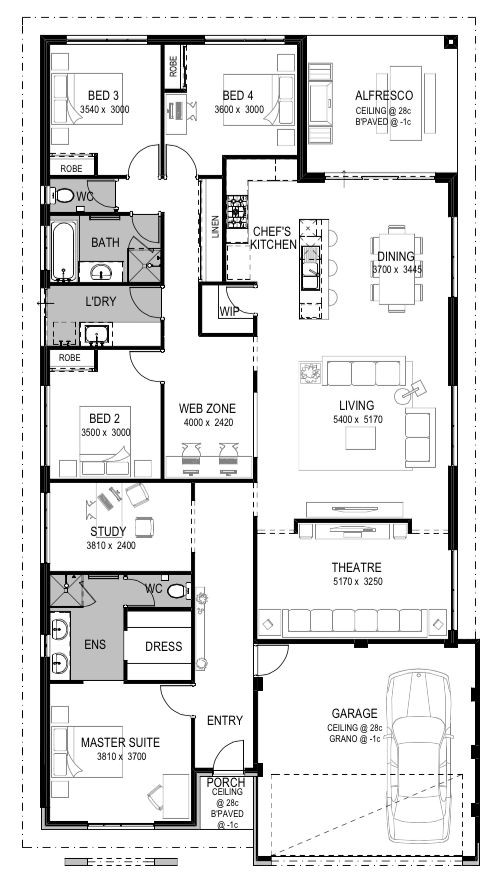door: (152, 686, 202, 721), (211, 730, 248, 775), (164, 142, 198, 186), (131, 349, 171, 386), (256, 646, 294, 683), (122, 571, 154, 613), (127, 142, 157, 184), (123, 288, 165, 317), (88, 180, 121, 214), (131, 211, 165, 242)
room: (229, 179, 454, 490), (253, 633, 475, 860), (30, 573, 195, 827), (42, 348, 252, 494), (37, 175, 169, 356), (156, 38, 307, 173), (253, 533, 445, 638), (42, 33, 164, 190), (33, 479, 198, 568)
wall: (250, 631, 465, 652), (46, 472, 260, 487), (35, 30, 56, 179), (294, 31, 311, 184), (472, 641, 485, 837), (40, 663, 56, 815), (249, 519, 265, 648), (217, 165, 234, 281), (44, 565, 199, 577), (45, 277, 162, 291), (156, 42, 169, 164), (246, 681, 264, 767), (144, 29, 207, 53), (45, 168, 133, 184), (223, 149, 299, 165), (121, 602, 195, 618), (46, 203, 126, 217), (35, 346, 171, 354), (154, 209, 169, 279), (202, 273, 258, 291), (158, 384, 168, 475), (119, 676, 198, 687), (199, 327, 258, 341), (441, 167, 456, 221), (187, 764, 199, 825), (187, 627, 202, 675), (194, 284, 207, 334), (41, 31, 69, 48), (300, 167, 327, 184), (192, 171, 227, 183), (248, 318, 262, 346), (49, 672, 76, 686), (437, 169, 456, 187), (283, 33, 307, 46), (252, 461, 262, 486)
window: (64, 27, 149, 52), (444, 554, 464, 633), (444, 391, 464, 467), (206, 34, 285, 50), (446, 219, 462, 298), (38, 387, 54, 465), (37, 494, 50, 565), (94, 818, 150, 834), (41, 221, 46, 267), (41, 636, 52, 654), (41, 188, 48, 203)
